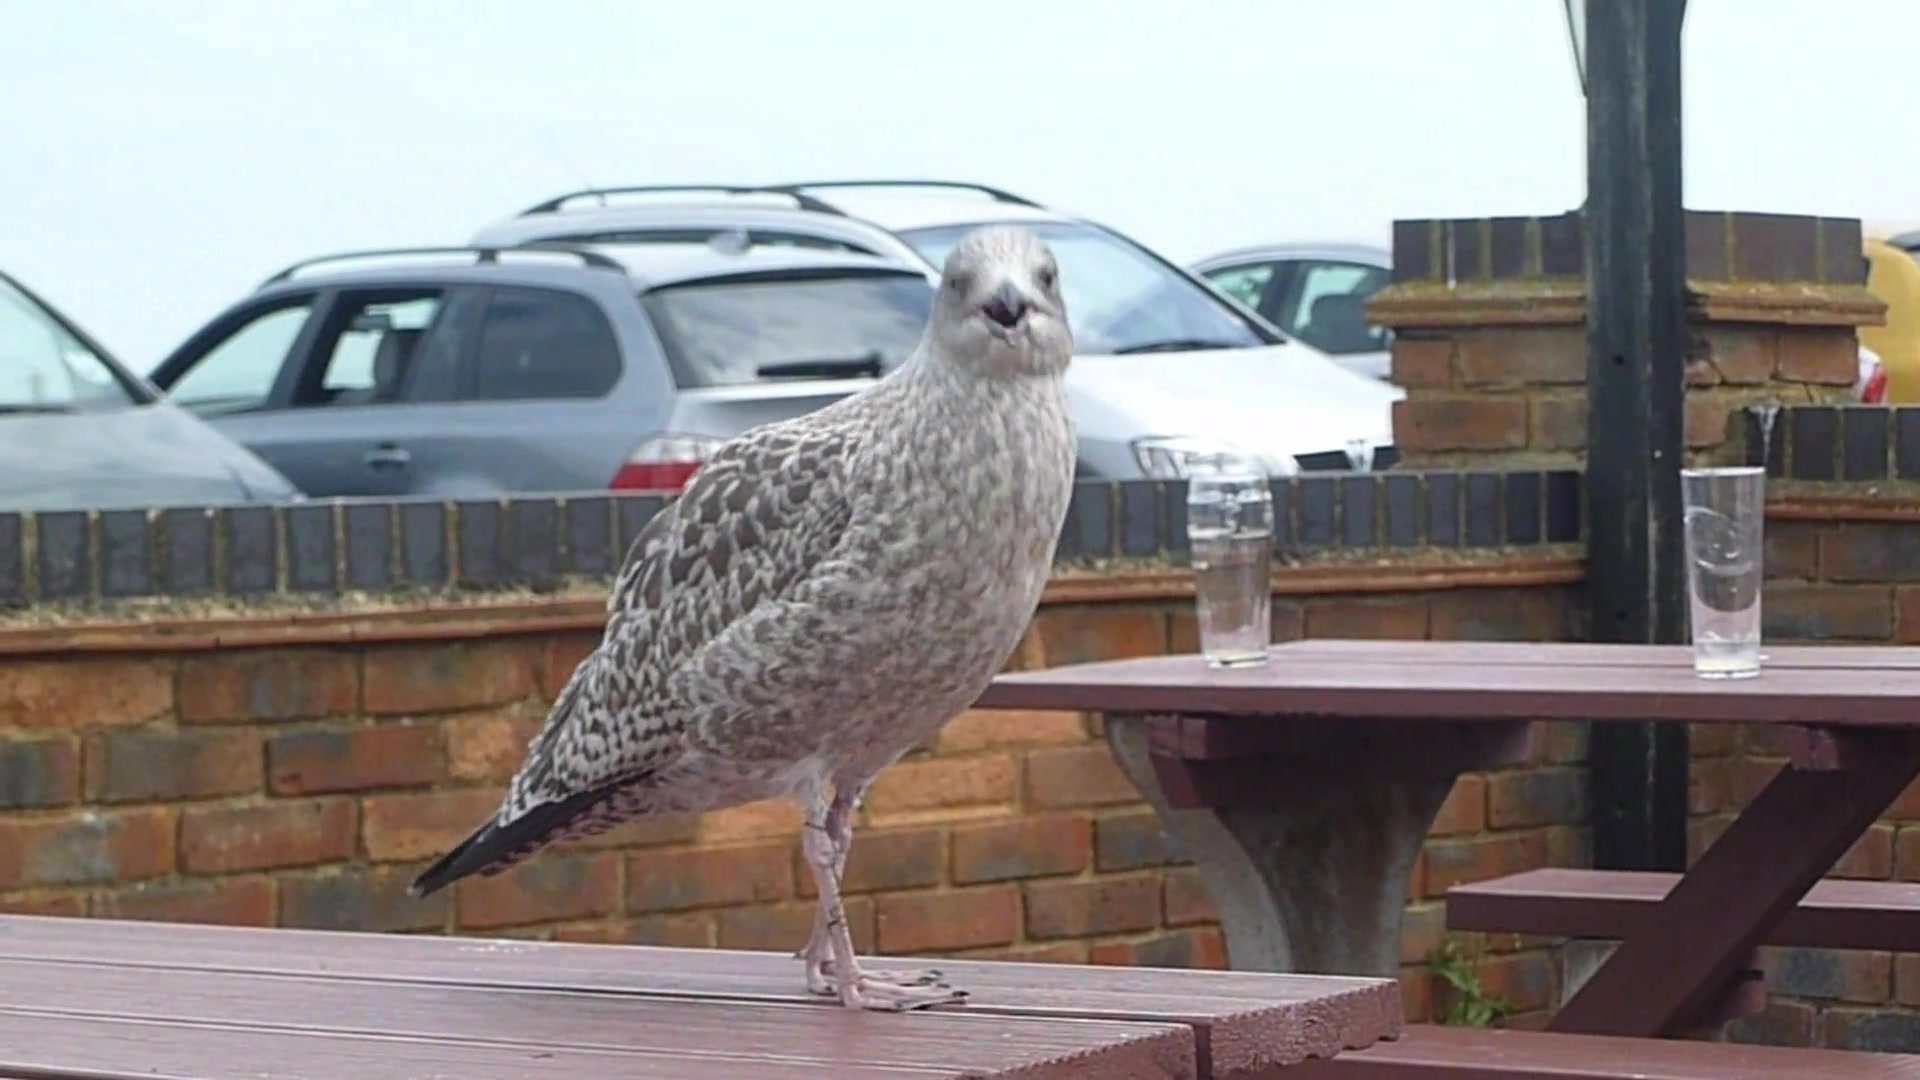bird: (407, 224, 1079, 1015)
